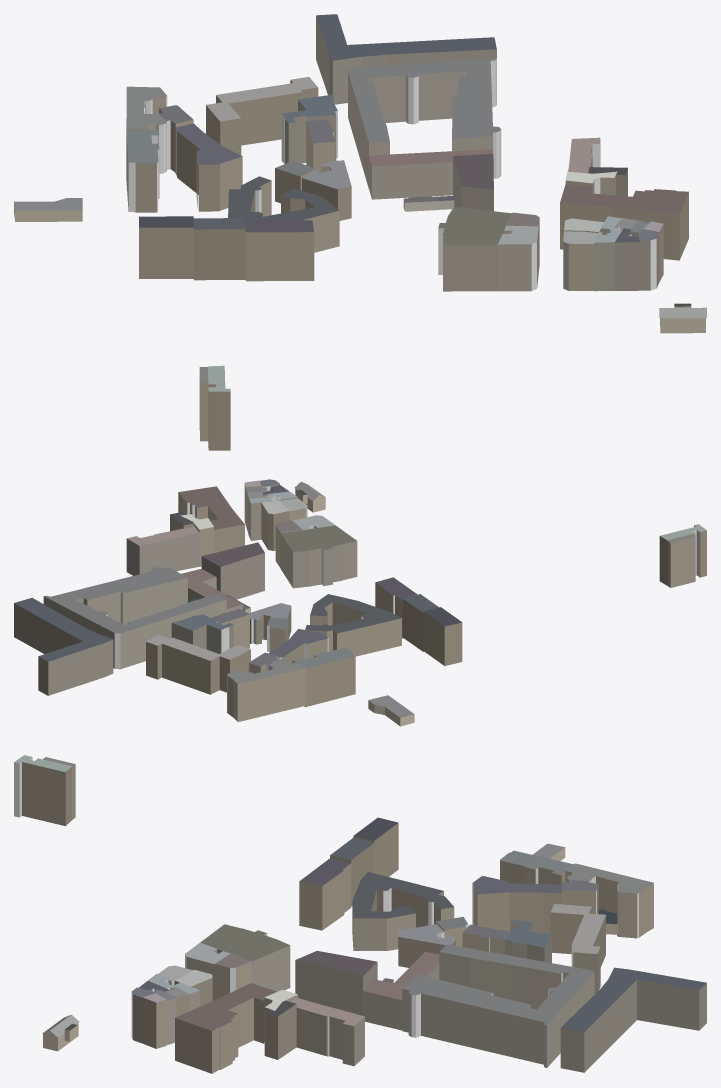
3 renders of one model, top to bottom at view 1: azimuth 30°, elevation 25°; view 2: azimuth 150°, elevation 25°; view 3: azimuth 270°, elevation 25°, orthographic. The views are drawn at different scales.
Visible parts, largest first — view 1: tuile; view 2: tuile; view 3: tuile.
Part boxes in pixels (<box>): tuile: <box>14,14,706,450</box>; tuile: <box>14,479,706,726</box>; tuile: <box>14,755,706,1073</box>.
Size of the model in its own units: 263 by 30.88 by 292.
